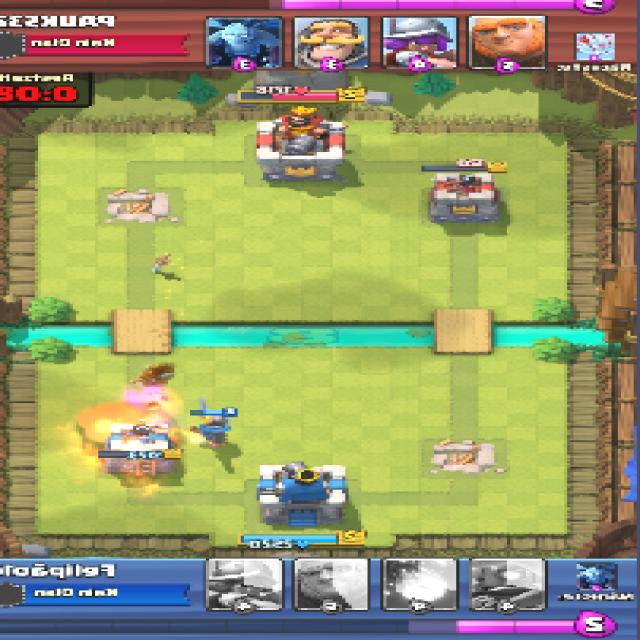Player-Knight: (188, 411, 237, 448)
